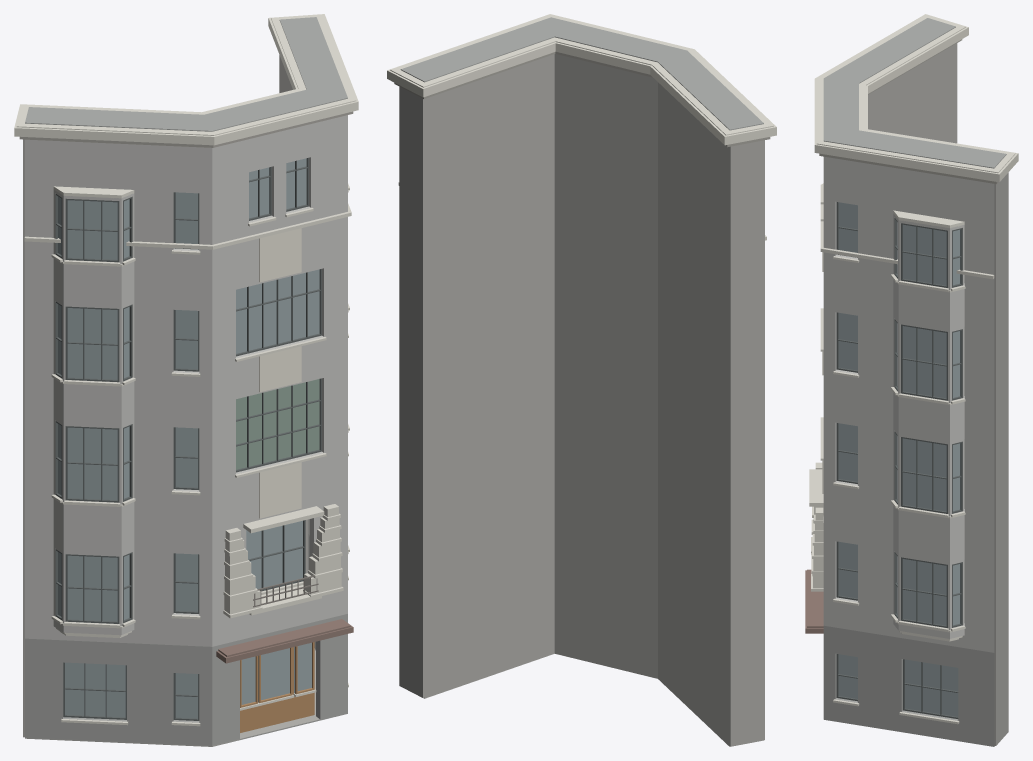
The model's file is xuhui-midget-apartments-lod.glb.
3 renders of one model, left to right at view 1: azimuth 30°, elevation 25°; view 2: azimuth 150°, elevation 25°; view 3: azimuth 270°, elevation 25°, orthographic. The views are drawn at different scales.
Parts seen in each view (by area): view 1: 密丹公寓武康路与湖南路转角立面; view 2: 密丹公寓武康路与湖南路转角立面; view 3: 密丹公寓武康路与湖南路转角立面.
Boxes of the visible parts, box(x1,y1,x2,y2) form: 密丹公寓武康路与湖南路转角立面: box(14, 14, 358, 746); 密丹公寓武康路与湖南路转角立面: box(387, 14, 776, 746); 密丹公寓武康路与湖南路转角立面: box(805, 14, 1018, 746).
Size of the model in its own units: 12.4 by 20.86 by 6.95.
